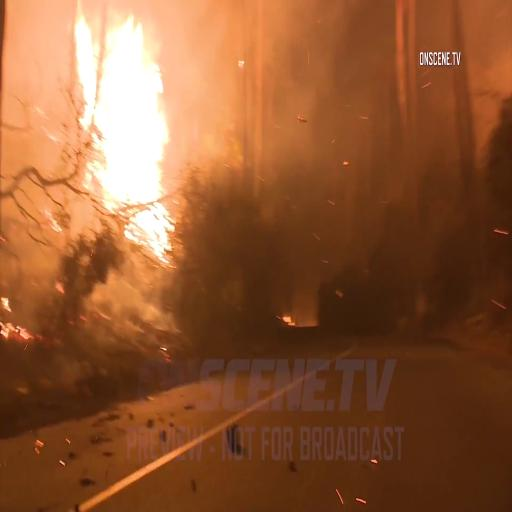fire: (52, 0, 168, 255)
